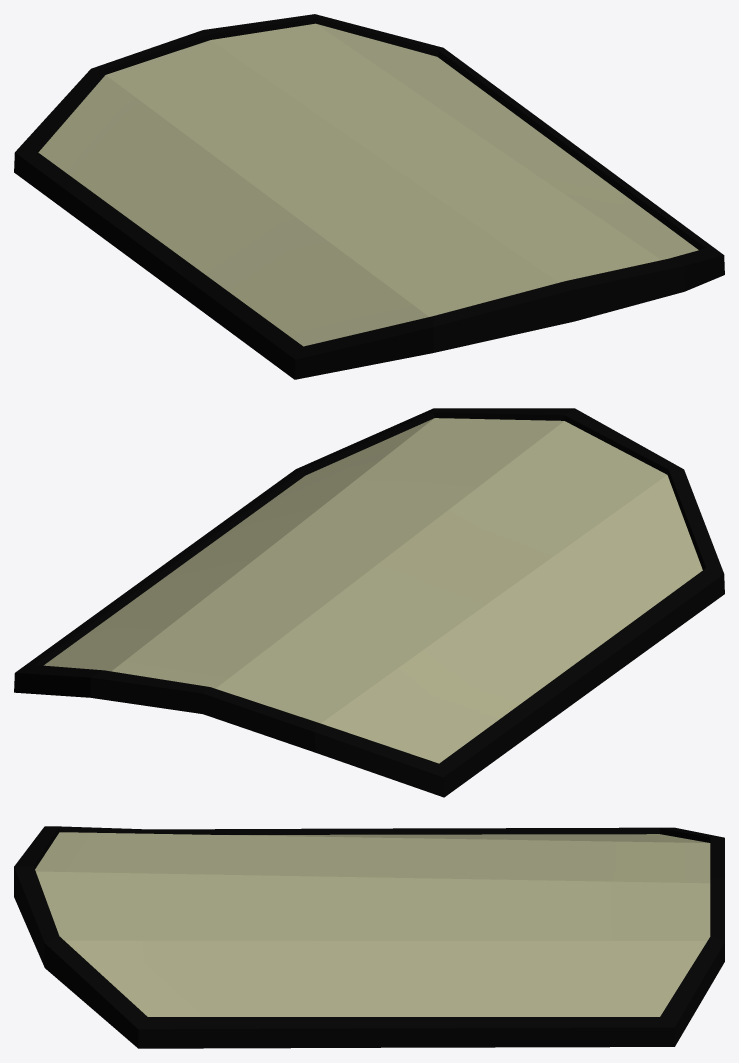
The model's file is Shield_3.fbx.
3 renders of one model, top to bottom at view 1: azimuth 30°, elevation 25°; view 2: azimuth 150°, elevation 25°; view 3: azimuth 270°, elevation 25°, orthographic. The views are drawn at different scales.
Visible parts, largest first — view 1: Shield; view 2: Shield; view 3: Shield.
Part boxes in pixels (x1,y1,x2,y2): Shield: (14,14,724,379); Shield: (14,408,724,797); Shield: (14,826,724,1048).
Size of the model in its own units: 40 by 7.66 by 59.91.
